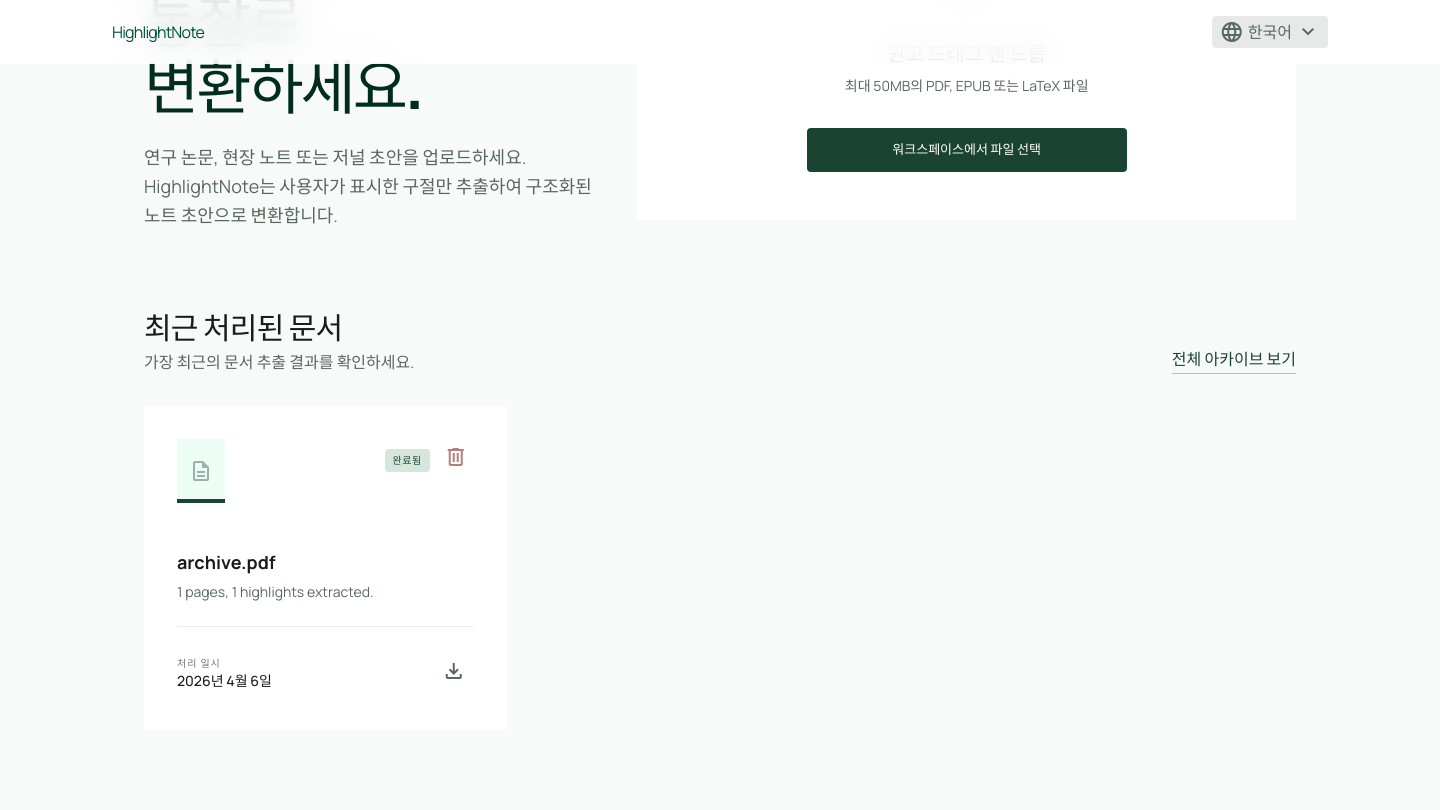
App › opens archived document details from a recent card
(page scrolled)
Click the heading "archive.pdf". click: [226, 562]
box: [177,550,276,574]
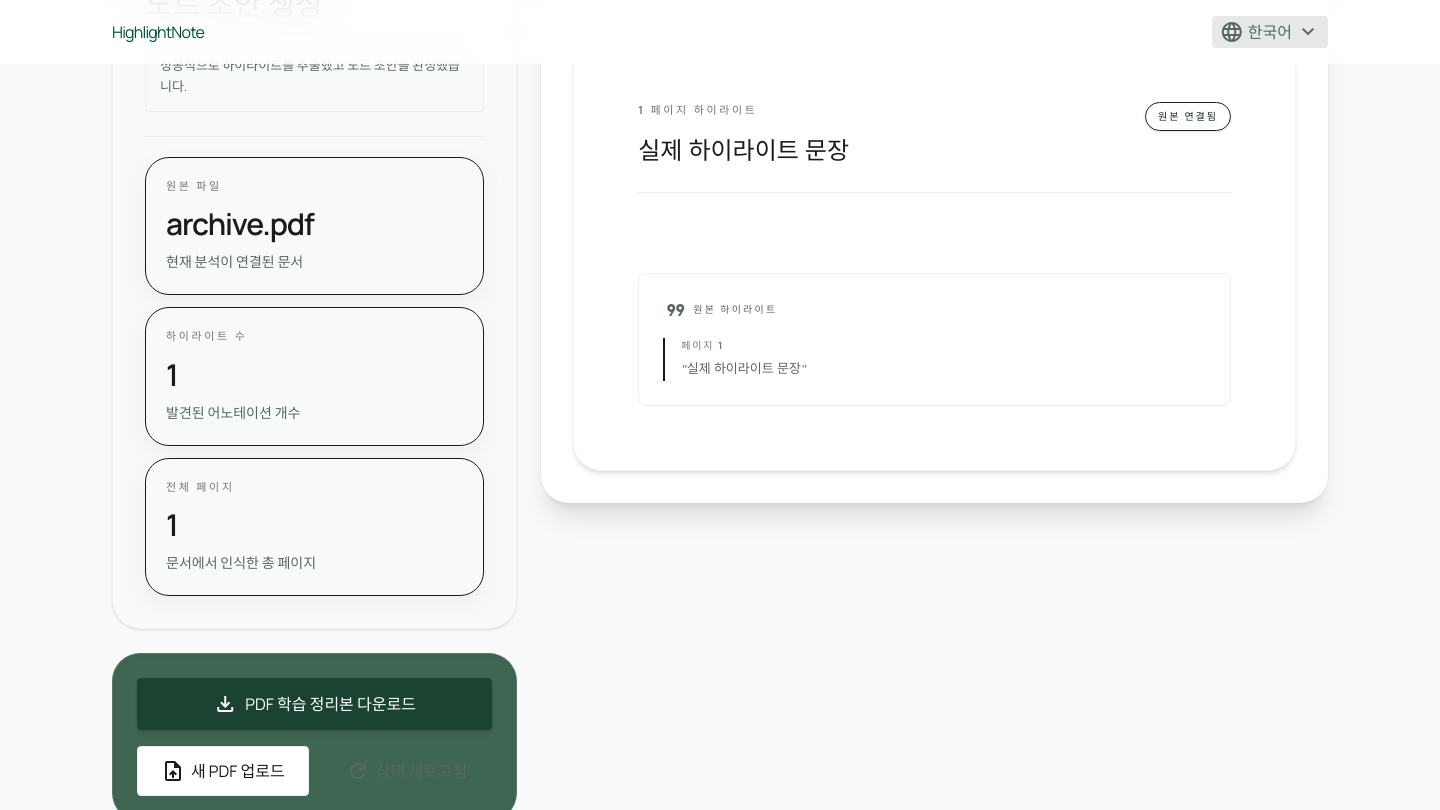
Expected: the heading "실제 하이라이트 문장" is shown, [638,134,849,168]
